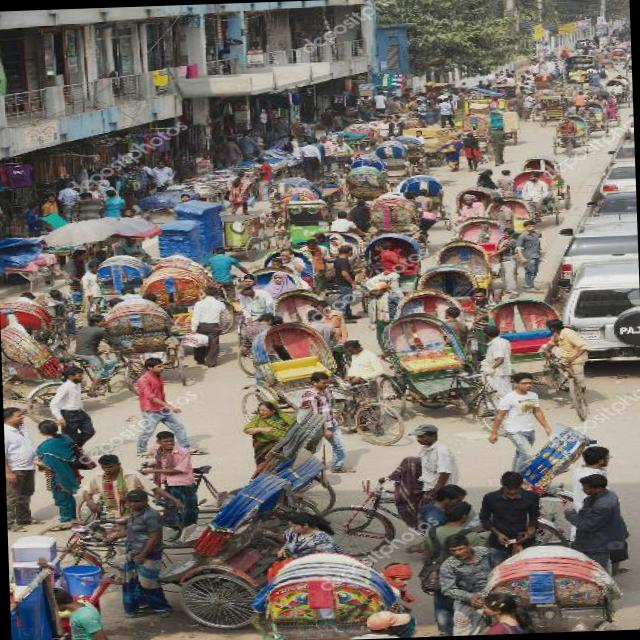car: (550, 258, 638, 363), (552, 212, 634, 279), (580, 190, 632, 216), (592, 160, 631, 192), (560, 54, 594, 80), (601, 141, 630, 160), (620, 114, 630, 132), (619, 132, 629, 142)
motorcycle: (47, 476, 272, 634), (315, 429, 588, 553), (232, 317, 400, 451), (133, 464, 346, 548), (371, 307, 501, 441), (0, 316, 143, 424), (472, 541, 620, 634), (248, 548, 393, 640), (484, 294, 586, 422), (98, 296, 185, 386), (228, 267, 295, 377), (152, 252, 230, 331), (242, 406, 320, 472), (426, 237, 500, 306), (354, 233, 418, 310), (0, 293, 69, 356), (81, 255, 146, 319), (362, 194, 426, 258), (408, 260, 474, 322), (134, 264, 196, 328), (394, 172, 452, 232), (484, 295, 526, 375), (388, 285, 464, 329), (448, 214, 502, 274), (516, 151, 568, 210), (504, 168, 556, 226), (262, 175, 312, 234), (310, 228, 358, 288), (269, 198, 329, 246), (257, 245, 314, 290), (266, 285, 323, 322), (339, 164, 388, 206), (480, 194, 526, 236), (548, 112, 588, 154), (388, 132, 426, 174), (449, 183, 492, 219), (370, 139, 410, 175), (456, 111, 488, 156), (533, 94, 566, 126), (572, 99, 600, 134), (588, 92, 616, 126), (598, 77, 625, 107), (273, 188, 314, 206), (528, 72, 556, 94), (342, 153, 380, 169), (607, 73, 628, 101), (528, 88, 546, 120), (558, 82, 580, 108), (592, 50, 610, 70), (344, 144, 368, 159), (608, 46, 624, 64), (576, 85, 596, 94), (584, 48, 598, 54), (600, 43, 610, 50), (611, 41, 621, 48)
truck: (446, 96, 504, 130)
